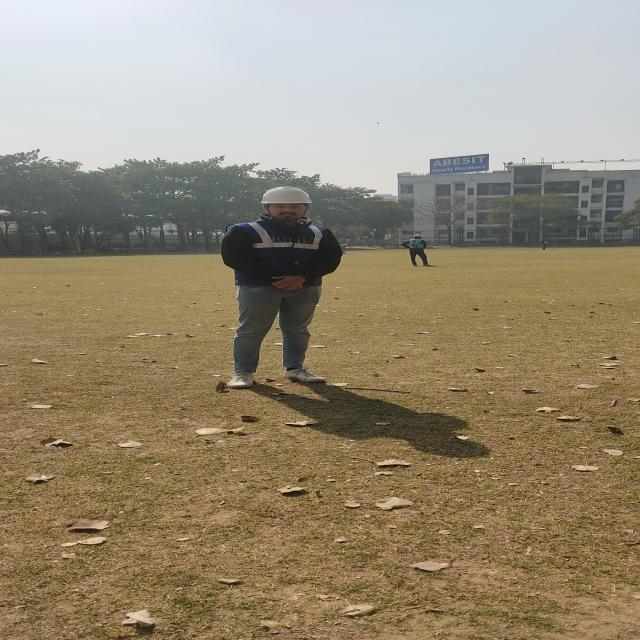safe: (221, 188, 341, 388)
unsafe: (408, 234, 426, 266)
